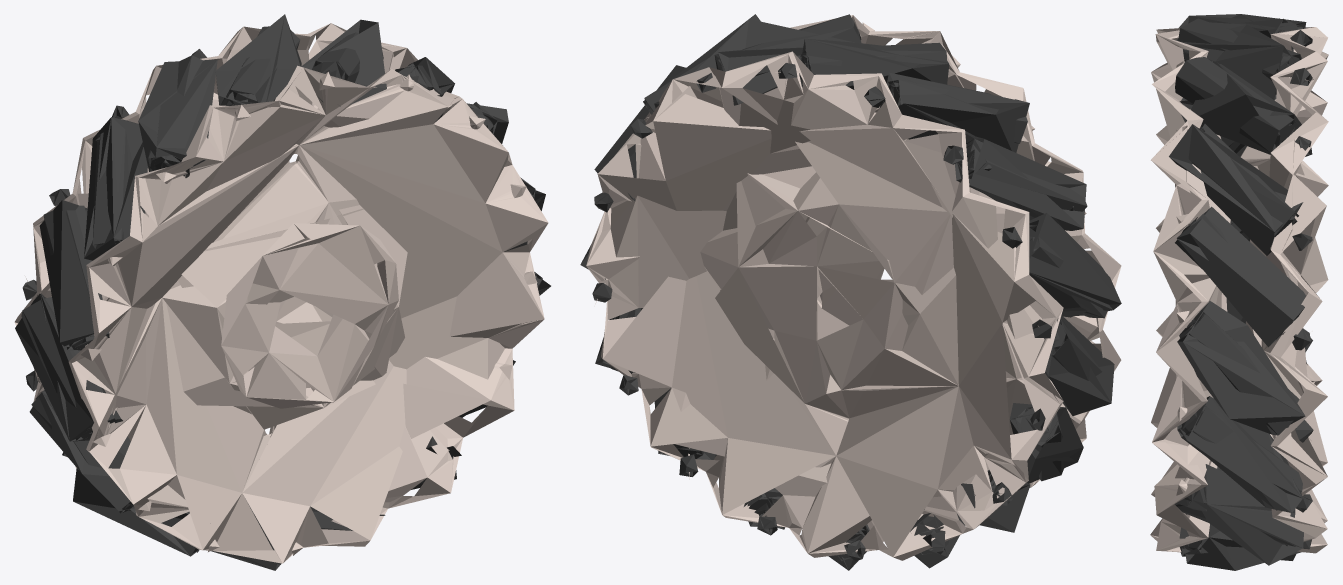
File: wheel_left01.dae
The picture shows the model from 3 angles, left to right: view 1: azimuth 30°, elevation 25°; view 2: azimuth 150°, elevation 25°; view 3: azimuth 270°, elevation 25°; orthographic projection.
Visible parts, largest first — view 1: wheel_lf; view 2: wheel_lf; view 3: wheel_lf.
Part boxes in pixels (bbox=[...]): wheel_lf: bbox=[14, 14, 550, 570]; wheel_lf: bbox=[580, 14, 1121, 570]; wheel_lf: bbox=[1150, 14, 1328, 570].
Size of the model in its own units: 0.1528 by 0.0485 by 0.1536.
